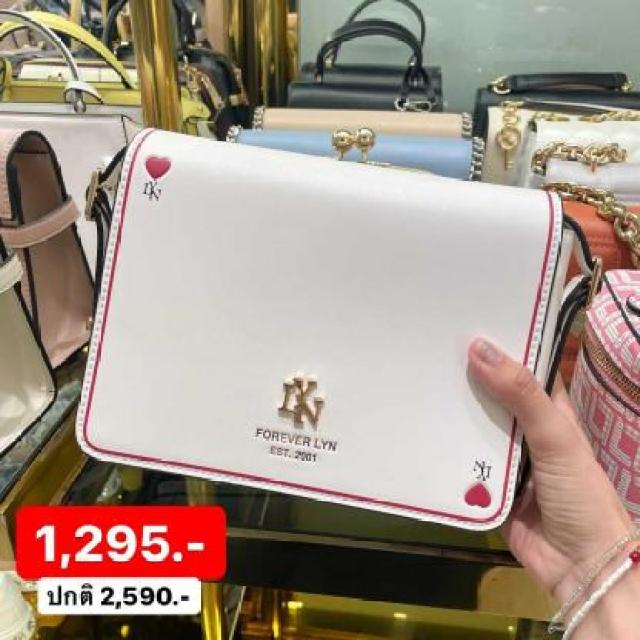Bag: (50, 69, 636, 568)
